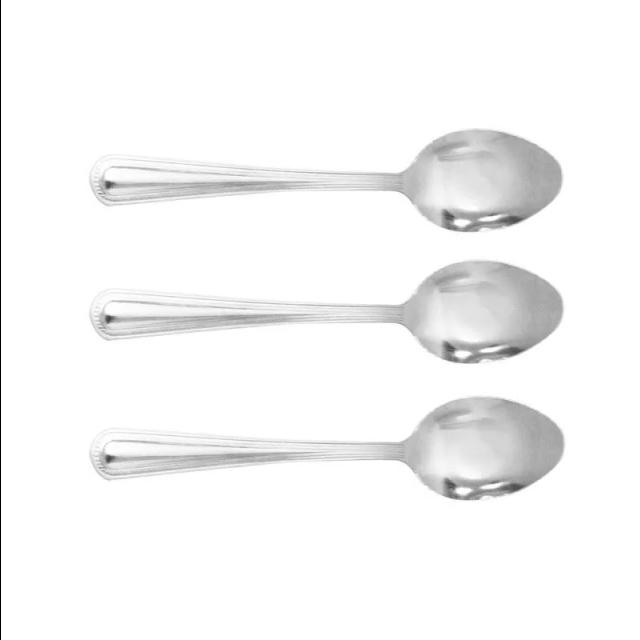spoon: (84, 394, 565, 502), (85, 258, 564, 366), (85, 127, 563, 235)
